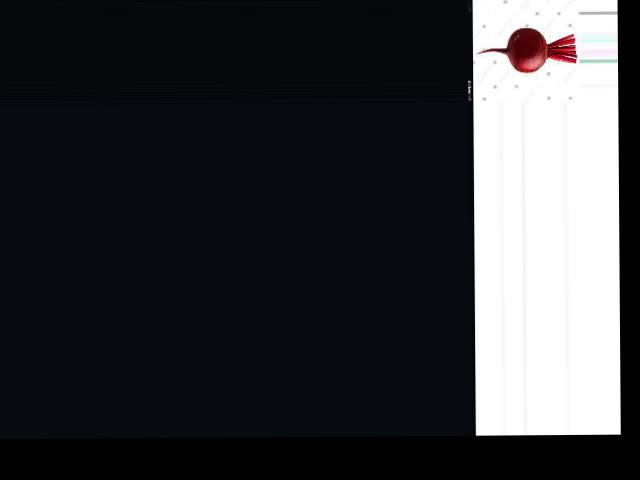beet: (475, 27, 576, 72)
